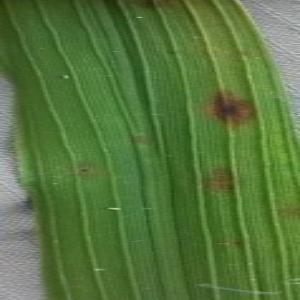Brown_Spot: (201, 84, 262, 130), (204, 166, 246, 200), (74, 162, 93, 177), (162, 45, 181, 59), (231, 238, 246, 249)
